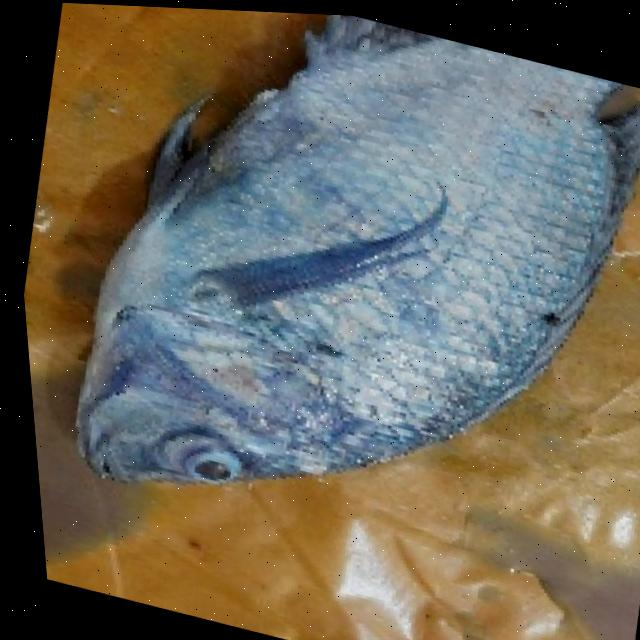Non-Fresh: (154, 402, 249, 498)
